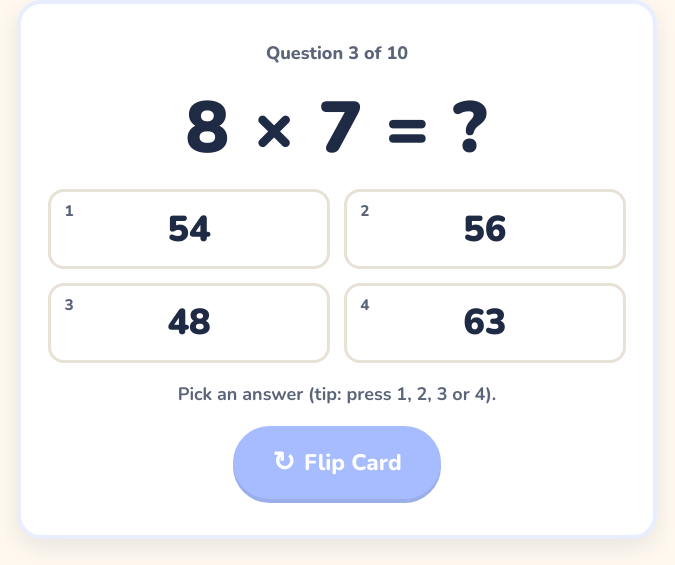
Test: QuestionCard front › keeps Flip Card disabled until an answer is selected
Expected: the button "↻ Flip Card" is disabled, x1=233 y1=426 x2=441 y2=499
Step 1. Click the button "1 54" → (189, 229), box x1=48 y1=189 x2=330 y2=269
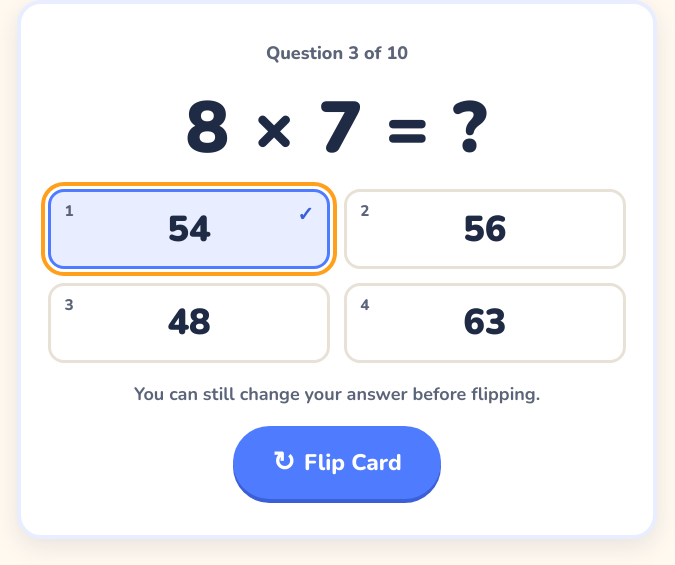
Result: the button "↻ Flip Card" is enabled at x1=233 y1=426 x2=441 y2=499
